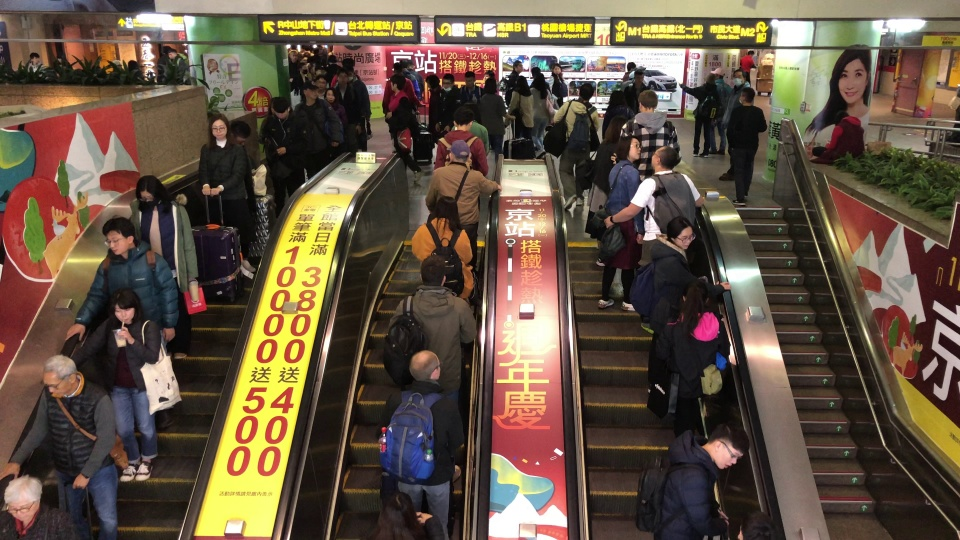person_head: (1, 471, 43, 529), (37, 349, 82, 402), (705, 423, 751, 471), (377, 487, 418, 540), (99, 215, 137, 257), (107, 287, 143, 331), (654, 277, 682, 332), (135, 175, 174, 214), (430, 194, 462, 236), (664, 214, 698, 252), (410, 351, 440, 390), (504, 58, 527, 107), (419, 254, 446, 291), (651, 144, 679, 172), (619, 135, 642, 163), (447, 138, 471, 163), (604, 116, 627, 142), (208, 113, 230, 140), (454, 107, 474, 132), (232, 118, 247, 147), (639, 90, 657, 112), (534, 74, 548, 101), (514, 75, 529, 99), (275, 97, 291, 119), (740, 87, 757, 106), (577, 81, 596, 98), (304, 79, 318, 100), (609, 91, 625, 108), (389, 73, 405, 90), (463, 67, 475, 89), (732, 67, 745, 87), (291, 73, 304, 93), (424, 73, 440, 89), (833, 110, 850, 125), (633, 63, 648, 80), (511, 56, 525, 74), (324, 87, 338, 104), (484, 78, 498, 94), (443, 73, 455, 90), (316, 72, 327, 90), (713, 64, 724, 81), (343, 56, 355, 71), (29, 52, 42, 65), (112, 58, 123, 73), (551, 61, 561, 77), (482, 69, 494, 82), (345, 66, 355, 81), (267, 96, 274, 117), (627, 61, 638, 74), (55, 51, 66, 64), (337, 70, 347, 84), (702, 72, 714, 83), (529, 66, 541, 76), (290, 50, 299, 63), (393, 63, 401, 77), (160, 44, 171, 54), (328, 53, 336, 66), (168, 48, 178, 58), (307, 61, 314, 74), (407, 59, 415, 69), (300, 62, 307, 73), (401, 57, 406, 69), (747, 49, 754, 57), (313, 46, 319, 55), (303, 44, 309, 52), (291, 43, 297, 50), (328, 44, 332, 52)
person_vbox: (2, 346, 129, 540), (601, 135, 707, 334), (63, 212, 180, 374), (85, 282, 179, 477), (388, 251, 475, 436), (382, 345, 462, 540), (640, 424, 754, 540), (126, 177, 197, 361), (648, 279, 709, 468), (648, 212, 733, 345), (196, 110, 248, 297), (424, 132, 503, 255), (596, 133, 639, 316), (589, 115, 636, 269), (410, 192, 473, 304), (1, 468, 89, 540), (231, 115, 271, 273), (620, 87, 687, 181), (554, 81, 598, 213), (727, 85, 769, 210), (263, 97, 300, 231), (383, 72, 424, 187), (358, 485, 441, 540), (715, 65, 752, 183), (433, 106, 489, 176), (294, 78, 330, 180), (382, 60, 419, 156), (679, 73, 714, 158), (529, 72, 558, 158), (825, 107, 864, 170), (504, 74, 533, 158), (449, 101, 491, 157), (346, 66, 373, 153), (423, 72, 447, 165), (480, 79, 504, 157), (337, 72, 362, 146), (324, 86, 346, 163), (602, 88, 635, 136), (622, 60, 648, 119), (437, 73, 459, 139), (258, 94, 276, 171), (712, 70, 727, 158), (459, 69, 482, 123), (331, 55, 360, 88), (400, 61, 421, 102), (52, 50, 75, 82), (166, 45, 185, 83), (529, 65, 552, 96), (407, 58, 424, 99), (28, 50, 49, 81), (156, 43, 172, 82), (739, 44, 754, 83), (950, 79, 960, 135), (328, 54, 343, 86), (290, 72, 303, 107), (623, 54, 638, 83), (108, 58, 126, 82), (315, 72, 328, 99), (127, 59, 142, 81), (287, 49, 300, 74), (315, 48, 326, 69), (307, 61, 317, 81), (301, 43, 314, 58), (326, 44, 335, 64), (316, 44, 326, 61), (299, 62, 306, 81), (299, 42, 306, 51)
